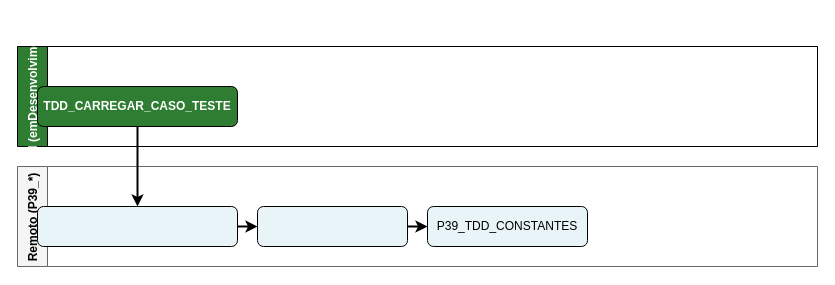
Some shapes in this 835 by 285 pixel diagram are drawn without their labels. The centre of each missing label's shape, as x and y in pixels:
P39_TDD_ODBC: the point at 332,226
P39_TDD_REGISTRAR_CASO_TESTE: the point at 137,226
